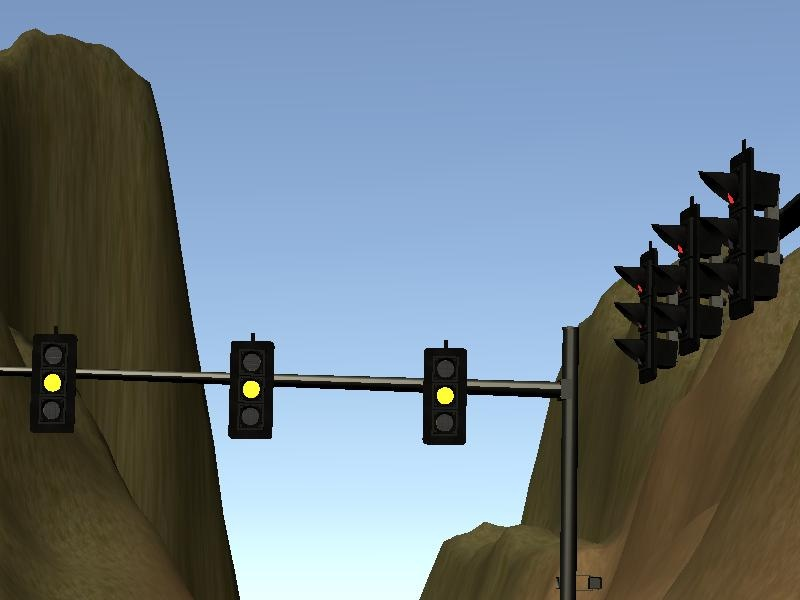YELLOW: (419, 343, 469, 447), (224, 340, 274, 444), (26, 327, 76, 431)
